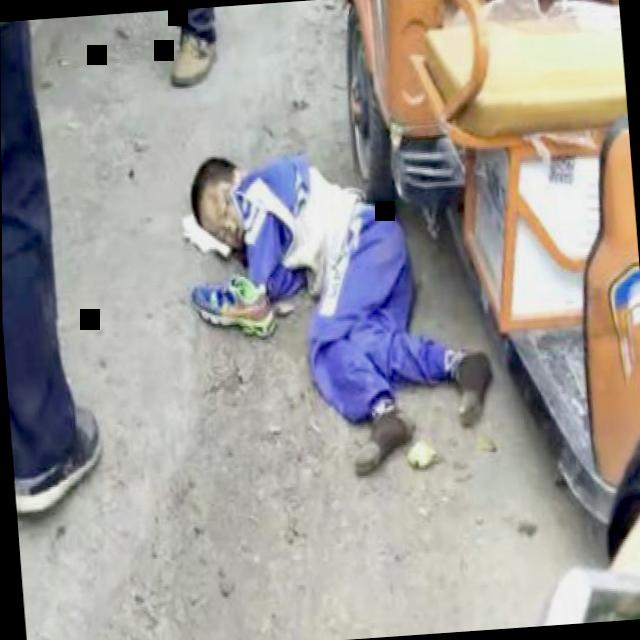Fall-Detected: (171, 122, 519, 492)
